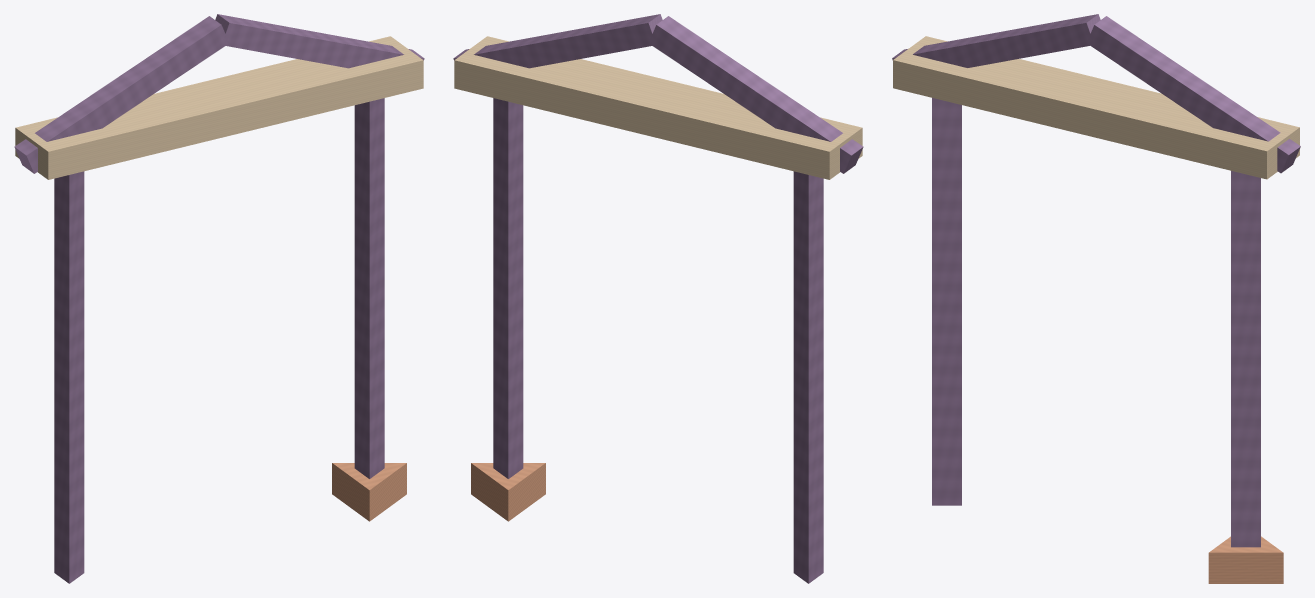
The model's file is atlas100-s081-a09.lod2.glb.
3 renders of one model, left to right at view 1: azimuth 30°, elevation 25°; view 2: azimuth 150°, elevation 25°; view 3: azimuth 330°, elevation 25°, orthographic.
Visible parts, largest first — view 1: atlas100-s081-a09:part-004, atlas100-s081-a09:part-000, atlas100-s081-a09:part-002, atlas100-s081-a09:part-005, atlas100-s081-a09:part-006, atlas100-s081-a09:part-003; view 2: atlas100-s081-a09:part-004, atlas100-s081-a09:part-000, atlas100-s081-a09:part-002, atlas100-s081-a09:part-005, atlas100-s081-a09:part-006, atlas100-s081-a09:part-003; view 3: atlas100-s081-a09:part-004, atlas100-s081-a09:part-000, atlas100-s081-a09:part-002, atlas100-s081-a09:part-006, atlas100-s081-a09:part-005, atlas100-s081-a09:part-003.
Boxes of the visible parts, bbox=[...] form: atlas100-s081-a09:part-004: bbox=[15, 36, 423, 179]; atlas100-s081-a09:part-000: bbox=[54, 171, 84, 583]; atlas100-s081-a09:part-002: bbox=[354, 98, 384, 478]; atlas100-s081-a09:part-005: bbox=[14, 16, 228, 173]; atlas100-s081-a09:part-006: bbox=[215, 14, 424, 68]; atlas100-s081-a09:part-003: bbox=[332, 463, 406, 521]; atlas100-s081-a09:part-004: bbox=[454, 36, 862, 179]; atlas100-s081-a09:part-000: bbox=[793, 171, 823, 583]; atlas100-s081-a09:part-002: bbox=[493, 98, 523, 478]; atlas100-s081-a09:part-005: bbox=[649, 16, 863, 173]; atlas100-s081-a09:part-006: bbox=[453, 14, 662, 68]; atlas100-s081-a09:part-003: bbox=[471, 463, 545, 521]; atlas100-s081-a09:part-004: bbox=[893, 36, 1299, 179]; atlas100-s081-a09:part-000: bbox=[932, 98, 961, 505]; atlas100-s081-a09:part-002: bbox=[1231, 171, 1260, 547]; atlas100-s081-a09:part-006: bbox=[1087, 16, 1300, 173]; atlas100-s081-a09:part-005: bbox=[892, 14, 1100, 67]; atlas100-s081-a09:part-003: bbox=[1208, 536, 1283, 583].
Size of the model in its own units: 2.65 by 3.31 by 0.433.
Materials: 3 (3 with a texture image).
